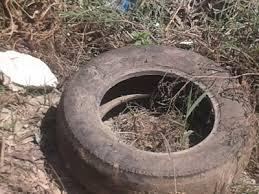tire: (55, 44, 253, 194)
